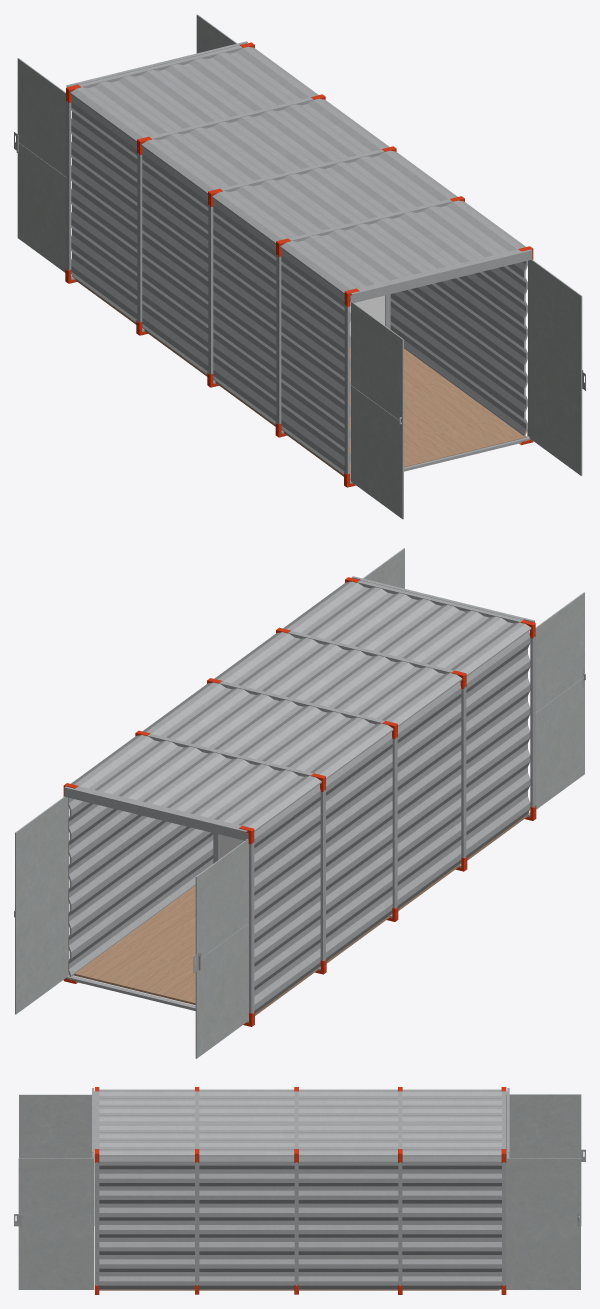
Rendered from 12D_opened.glb.
The picture shows the model from 3 angles, top to bottom: view 1: azimuth 30°, elevation 25°; view 2: azimuth 150°, elevation 25°; view 3: azimuth 270°, elevation 25°; orthographic projection. The views are drawn at different scales.
Parts seen in each view (by area): view 1: ceiling, leftWall, rightWall, rightSideDoorWing.001, leftSideDoorWing, rightSideDoorWing.002, floor, frontRim, middleBackRim.001, backRim, middleFrontRim, gutter (+3 smaller); view 2: ceiling, leftWall, rightWall, rightSideDoorWing.002, leftSideDoorWing.001, leftSideDoorWing, floor, backRim, gutter.001, middleFrontRim, middleRim, middleBackRim.001 (+2 smaller); view 3: rightWall, ceiling, rightSideDoorWing.001, leftSideDoorWing.001, rightSideDoorWing.002, leftSideDoorWing, middleBackRim.001, middleFrontRim, middleRim, frontRim, backRim, floor.
Boxes of the visible parts, left/top/right/bottom form: ceiling: left=70, top=46, right=525, bottom=294; leftWall: left=71, top=95, right=350, bottom=478; rightWall: left=390, top=260, right=527, bottom=436; rightSideDoorWing.001: left=529, top=259, right=585, bottom=475; leftSideDoorWing: left=351, top=302, right=403, bottom=519; rightSideDoorWing.002: left=14, top=58, right=66, bottom=272; floor: left=75, top=279, right=526, bottom=480; frontRim: left=344, top=249, right=530, bottom=483; middleBackRim.001: left=136, top=94, right=325, bottom=335; backRim: left=65, top=42, right=254, bottom=283; middleFrontRim: left=275, top=196, right=464, bottom=437; gutter: left=350, top=249, right=532, bottom=303; ceiling: left=71, top=581, right=531, bottom=831; leftWall: left=246, top=631, right=530, bottom=1013; rightWall: left=68, top=797, right=213, bottom=976; rightSideDoorWing.002: left=193, top=839, right=248, bottom=1058; leftSideDoorWing.001: left=14, top=796, right=68, bottom=1014; leftSideDoorWing: left=535, top=592, right=585, bottom=809; floor: left=73, top=813, right=529, bottom=1015; backRim: left=63, top=783, right=254, bottom=1026; gutter.001: left=64, top=786, right=248, bottom=840; middleFrontRim: left=276, top=627, right=467, bottom=871; middleRim: left=207, top=678, right=398, bottom=921; middleBackRim.001: left=135, top=730, right=326, bottom=974; rightWall: left=99, top=1156, right=501, bottom=1289; ceiling: left=99, top=1089, right=501, bottom=1156; rightSideDoorWing.001: left=14, top=1158, right=94, bottom=1289; leftSideDoorWing.001: left=506, top=1158, right=580, bottom=1289; rightSideDoorWing.002: left=506, top=1094, right=585, bottom=1225; leftSideDoorWing: left=19, top=1094, right=94, bottom=1225; middleBackRim.001: left=398, top=1087, right=402, bottom=1294; middleFrontRim: left=195, top=1087, right=199, bottom=1294; middleRim: left=294, top=1087, right=298, bottom=1294; frontRim: left=95, top=1091, right=99, bottom=1289; backRim: left=501, top=1087, right=506, bottom=1294; floor: left=99, top=1289, right=499, bottom=1290.
Size of the model in its own units: 23.18 by 23.06 by 84.23.
Materials: 14 (12 with a texture image).
